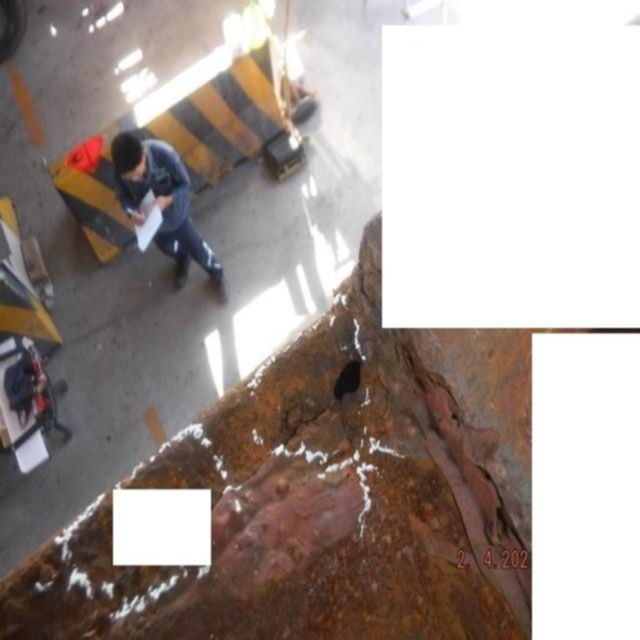Hole: (332, 356, 364, 404)
Rusty: (258, 460, 504, 637), (151, 379, 290, 487), (294, 336, 391, 445), (13, 565, 139, 640)
